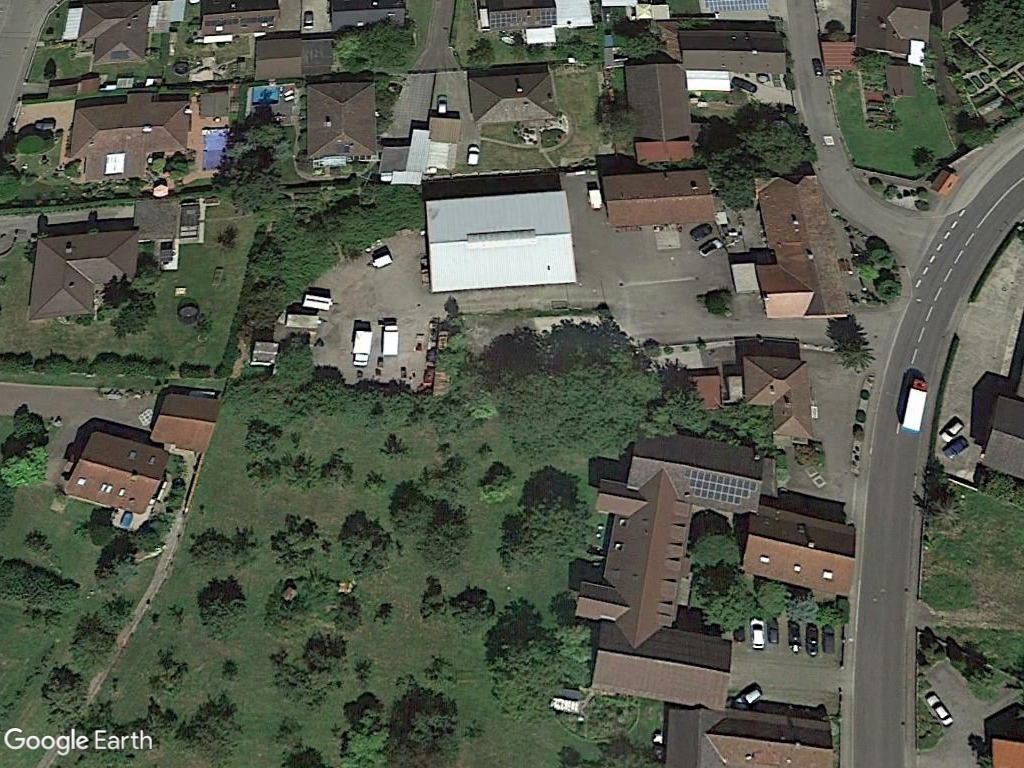truck: (897, 376, 929, 438), (378, 315, 403, 361), (352, 326, 373, 372)
